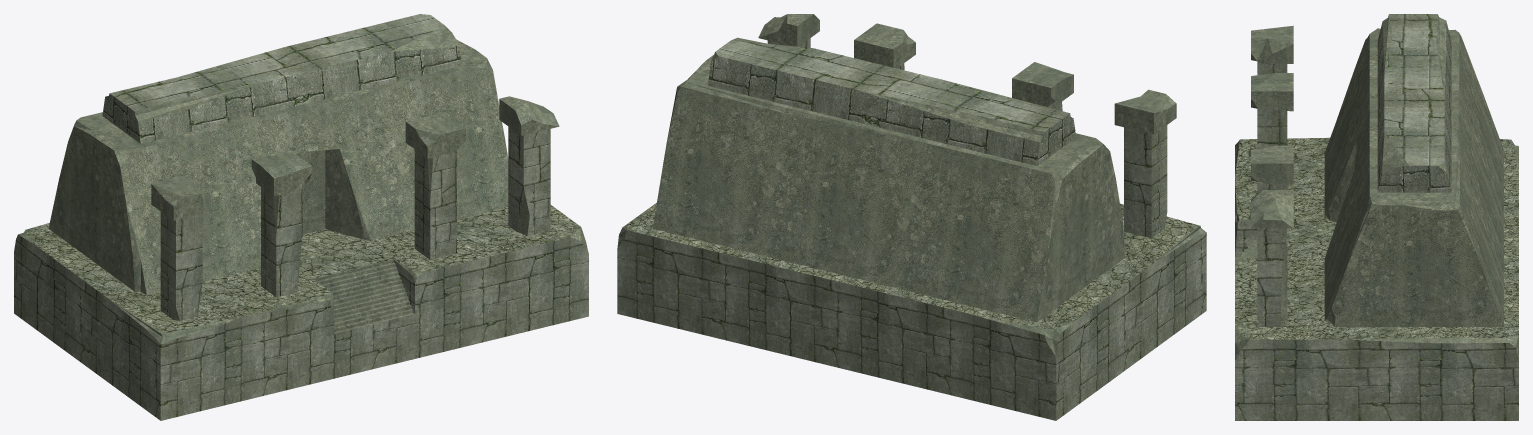
Rendered from thm_nboo_gungan_imprv_building_s02_l0.fbx.
3 views of the same model, side by side, from view 1: azimuth 30°, elevation 25°; view 2: azimuth 150°, elevation 25°; view 3: azimuth 270°, elevation 25° (orthographic). The views are drawn at different scales.
Visible parts, largest first — view 1: mesh_node; view 2: mesh_node; view 3: mesh_node.
Boxes of the visible parts, x1=… form: mesh_node: x1=14, y1=14, x2=588, y2=420; mesh_node: x1=617, y1=14, x2=1206, y2=420; mesh_node: x1=1235, y1=14, x2=1518, y2=420.
Bounding box in the file's own units: 32 × 17 × 19.
